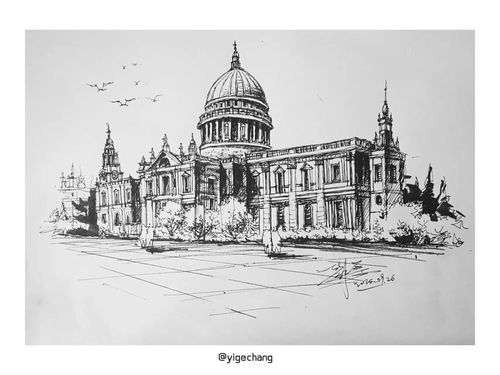buildings: (184, 39, 287, 253), (351, 82, 416, 218)
